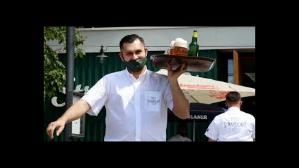mask_weared_incorrect: (124, 48, 146, 70)
